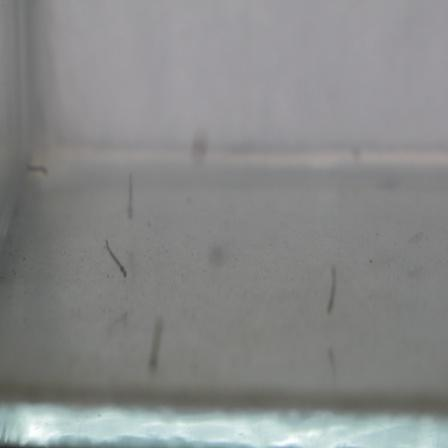Jentik-Nyamuk: (101, 233, 133, 284), (323, 262, 343, 317)
